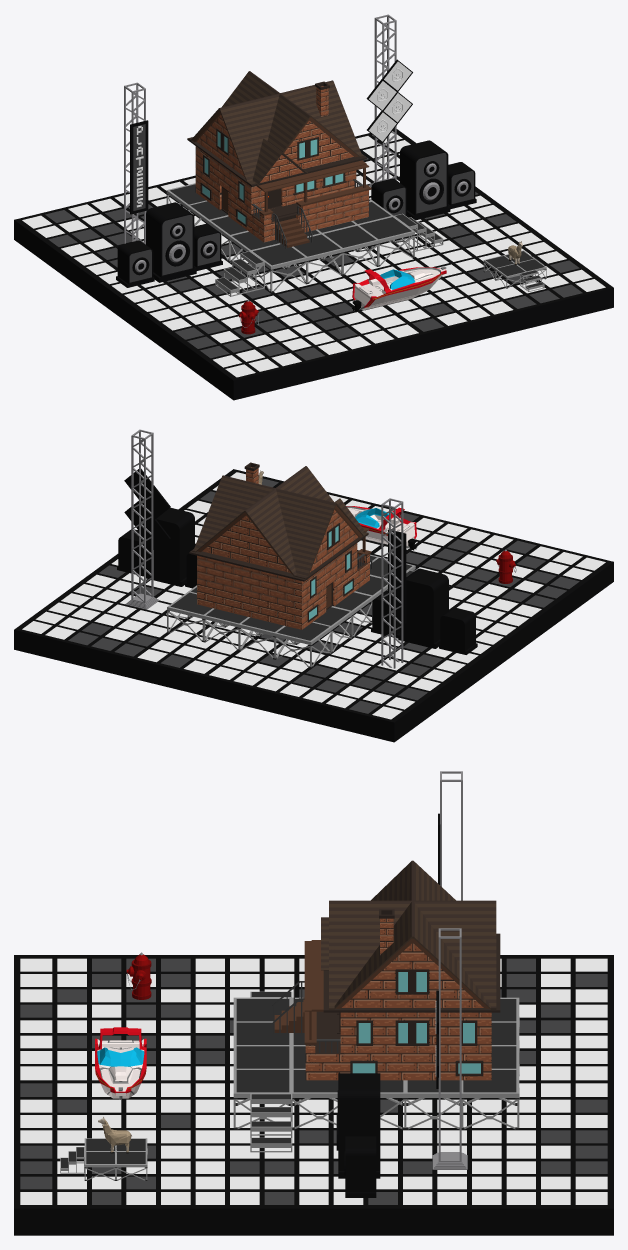
3 views of the same model, one above another, from view 1: azimuth 30°, elevation 25°; view 2: azimuth 150°, elevation 25°; view 3: azimuth 270°, elevation 25° (orthographic). The views are drawn at different scales.
Parts seen in each view (by area): view 1: Cube.008, Cube.469, VEHICLES_BOAT; view 2: Cube.008, Cube.469, VEHICLES_BOAT, OBJRANDOM_FIRE_HYDRANT; view 3: Cube.008, Cube.469, VEHICLES_BOAT, OBJRANDOM_FIRE_HYDRANT.
Boxes of the visible parts, left/top/right/bottom form: Cube.008: left=14, top=14, right=613, bottom=400; Cube.469: left=187, top=71, right=371, bottom=248; VEHICLES_BOAT: left=352, top=266, right=446, bottom=311; Cube.008: left=14, top=429, right=613, bottom=742; Cube.469: left=189, top=462, right=372, bottom=629; VEHICLES_BOAT: left=346, top=506, right=416, bottom=550; OBJRANDOM_FIRE_HYDRANT: left=496, top=549, right=516, bottom=583; Cube.008: left=14, top=771, right=613, bottom=1235; Cube.469: left=272, top=860, right=500, bottom=1080; VEHICLES_BOAT: left=95, top=1027, right=146, bottom=1099; OBJRANDOM_FIRE_HYDRANT: left=126, top=952, right=151, bottom=999.
Bounding box in the file's own units: 4000 × 1922 × 4000.
32 materials, 3 textured.
